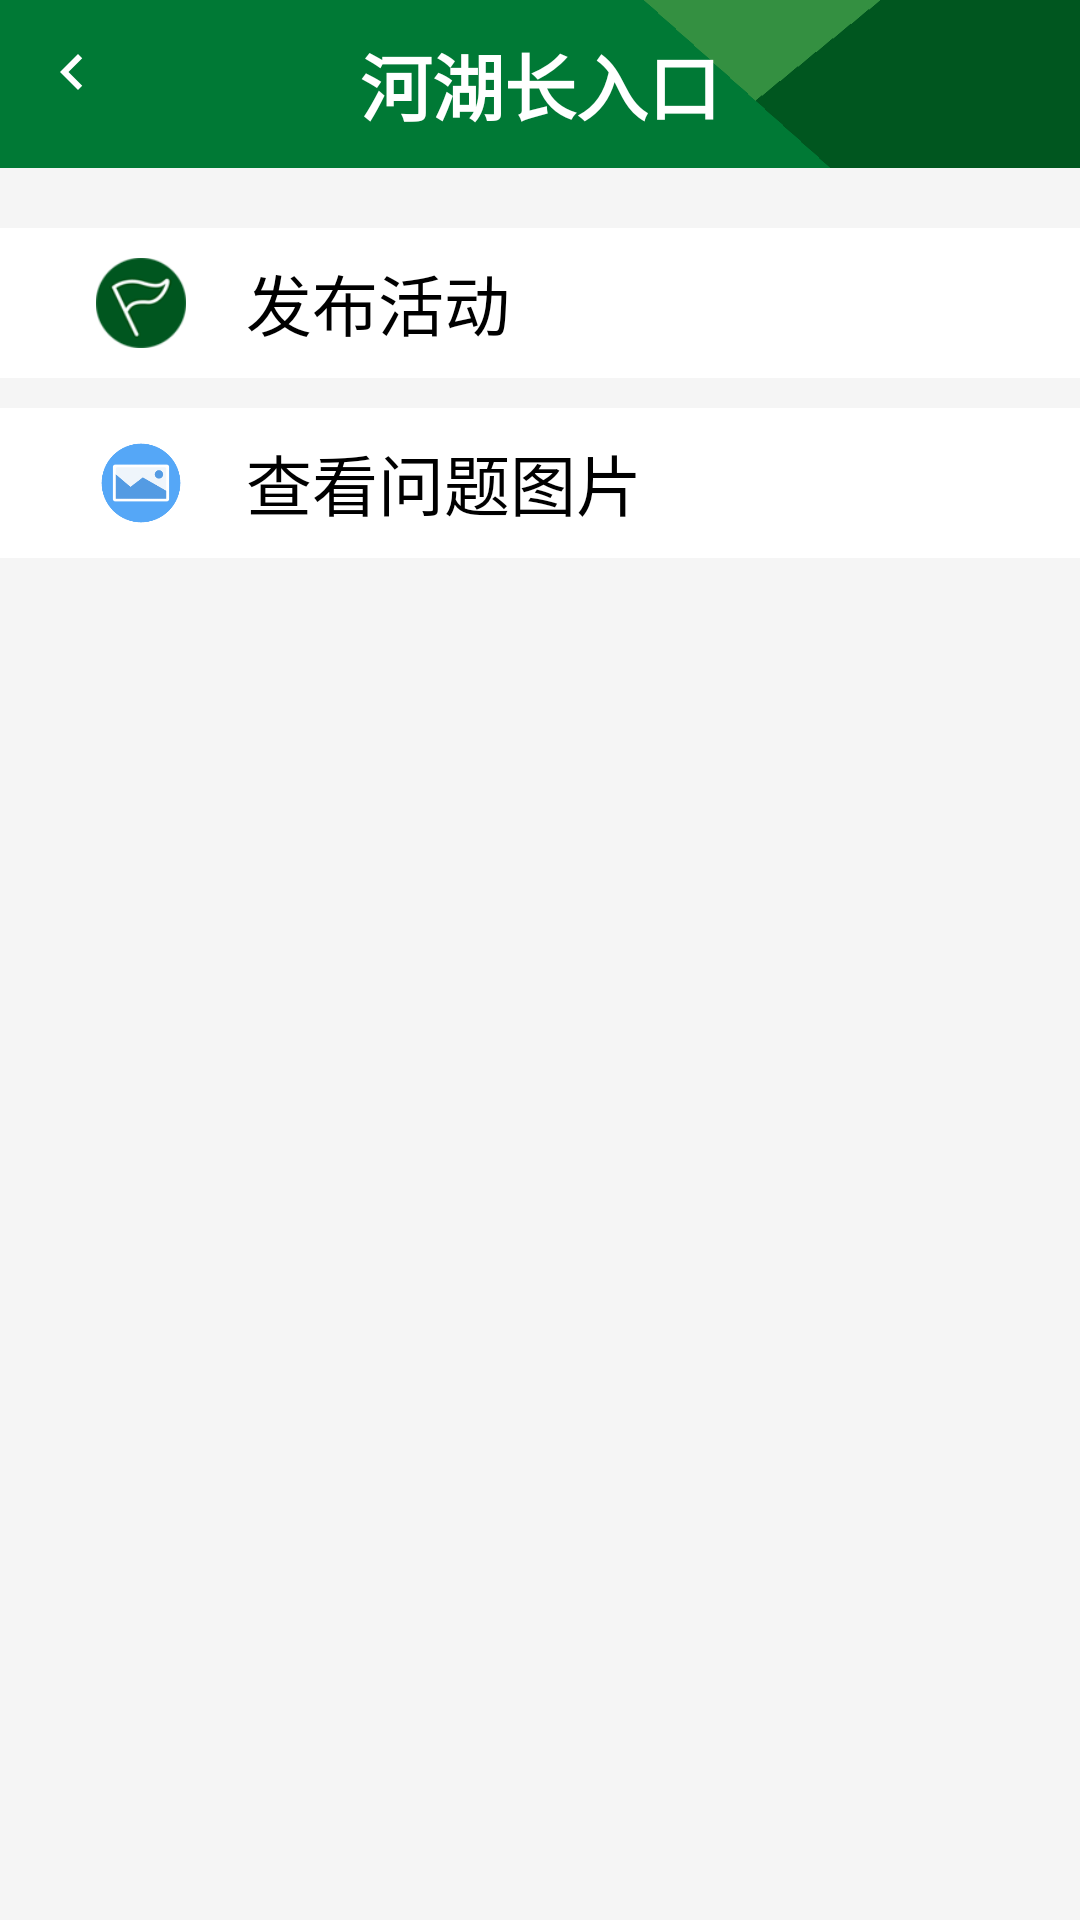

Point at icon controls on the screen. Image size 1080px×1920px, points as (x=x, y=y).
activity post: (x=141, y=303)
proble upload: (x=141, y=483)
